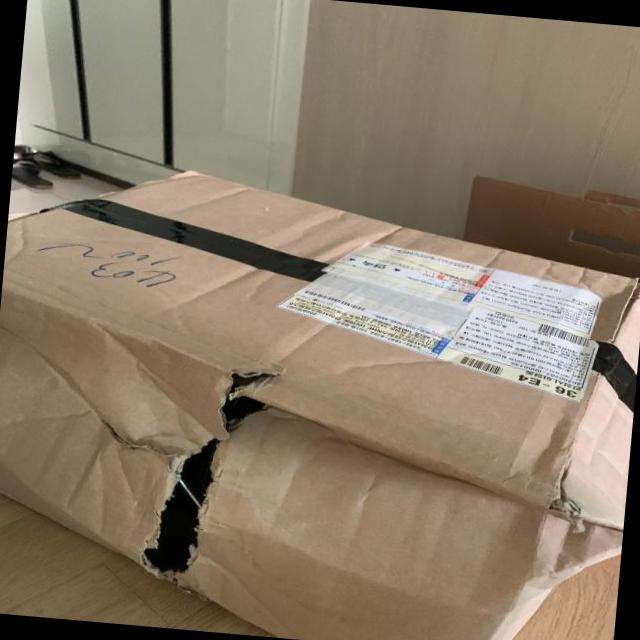tear: (86, 346, 287, 594)
